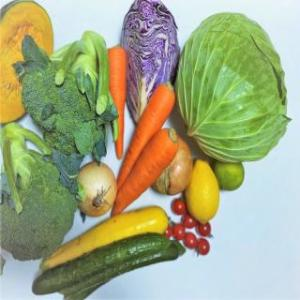cabbage: (175, 10, 289, 160)
carrot: (107, 83, 174, 189), (105, 127, 179, 217), (108, 46, 126, 160)
onion: (72, 162, 118, 216), (152, 133, 192, 195)
